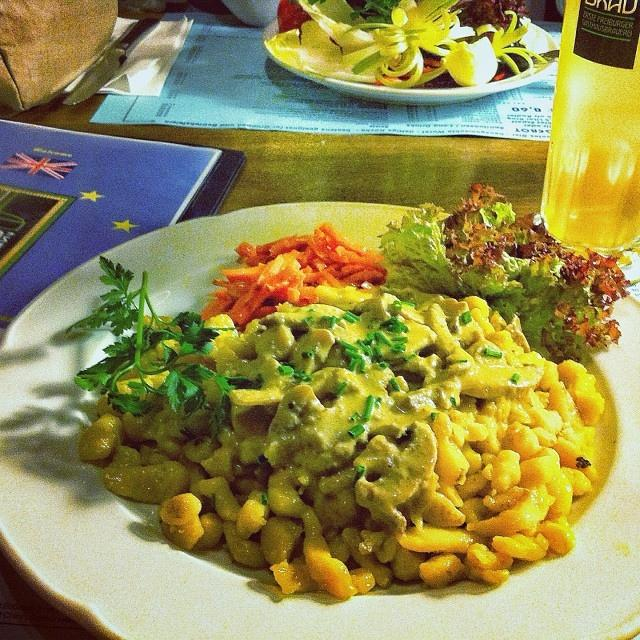lettuce: (376, 184, 630, 368), (559, 268, 608, 330), (349, 0, 402, 25), (503, 280, 527, 294)
